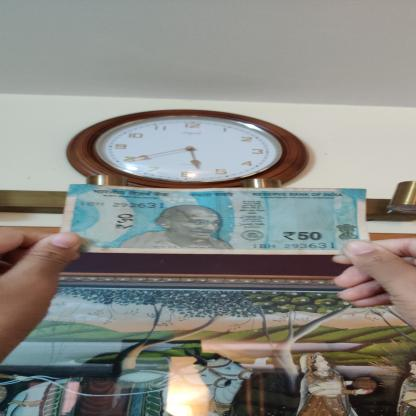New50Front: (62, 183, 370, 256)
